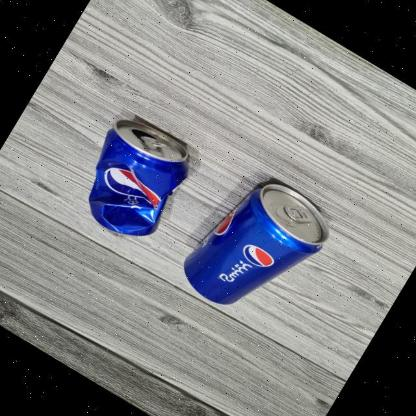Can: (168, 158, 346, 342), (64, 106, 206, 254)
